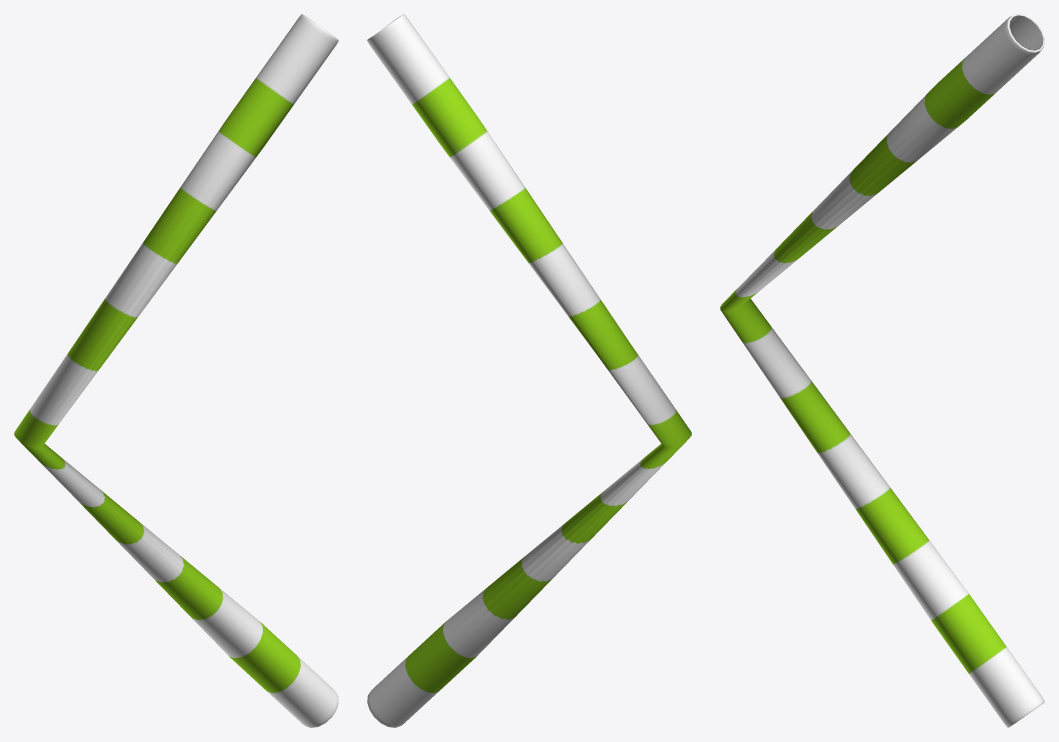
File: Pitillo_doblado_variacion_color.glb
3 renders of one model, left to right at view 1: azimuth 30°, elevation 25°; view 2: azimuth 150°, elevation 25°; view 3: azimuth 330°, elevation 25°, orthographic.
Parts seen in each view (by area): view 1: Pitillo_doblado; view 2: Pitillo_doblado; view 3: Pitillo_doblado.
Boxes of the visible parts, x1,y1,x2,y2 form: Pitillo_doblado: [14, 14, 338, 727]; Pitillo_doblado: [367, 14, 691, 727]; Pitillo_doblado: [720, 14, 1044, 727].
Size of the model in its own units: 5.76 by 12.38 by 0.7414.
1 material, 1 textured.
